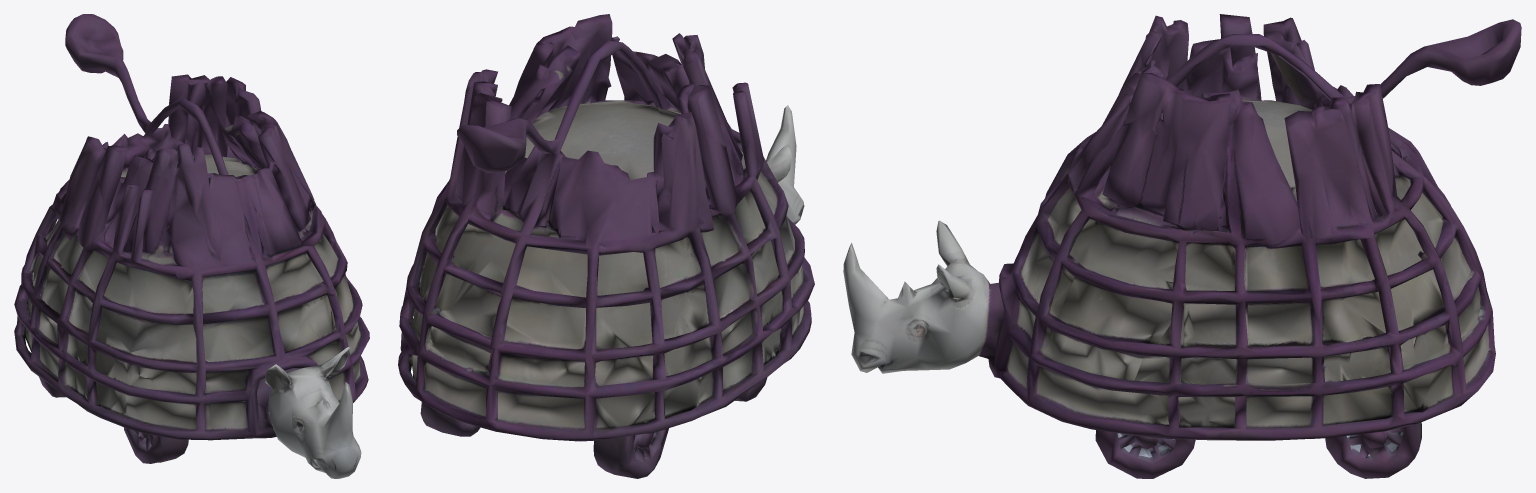
3 views of the same model, side by side, from view 1: azimuth 30°, elevation 25°; view 2: azimuth 150°, elevation 25°; view 3: azimuth 270°, elevation 25° (orthographic). The views are drawn at different scales.
Visible parts, largest first — view 1: tripo_node_99ea8cc9-f0f9-401a-a971-6f827198ad19; view 2: tripo_node_99ea8cc9-f0f9-401a-a971-6f827198ad19; view 3: tripo_node_99ea8cc9-f0f9-401a-a971-6f827198ad19.
Part boxes in pixels (x1,y1,x2,y2): tripo_node_99ea8cc9-f0f9-401a-a971-6f827198ad19: [14, 14, 369, 478]; tripo_node_99ea8cc9-f0f9-401a-a971-6f827198ad19: [398, 14, 814, 478]; tripo_node_99ea8cc9-f0f9-401a-a971-6f827198ad19: [843, 14, 1521, 478].
Bounding box in the file's own units: 0.5801 × 0.6562 × 0.9974.
Materials: 1 (1 with a texture image).
